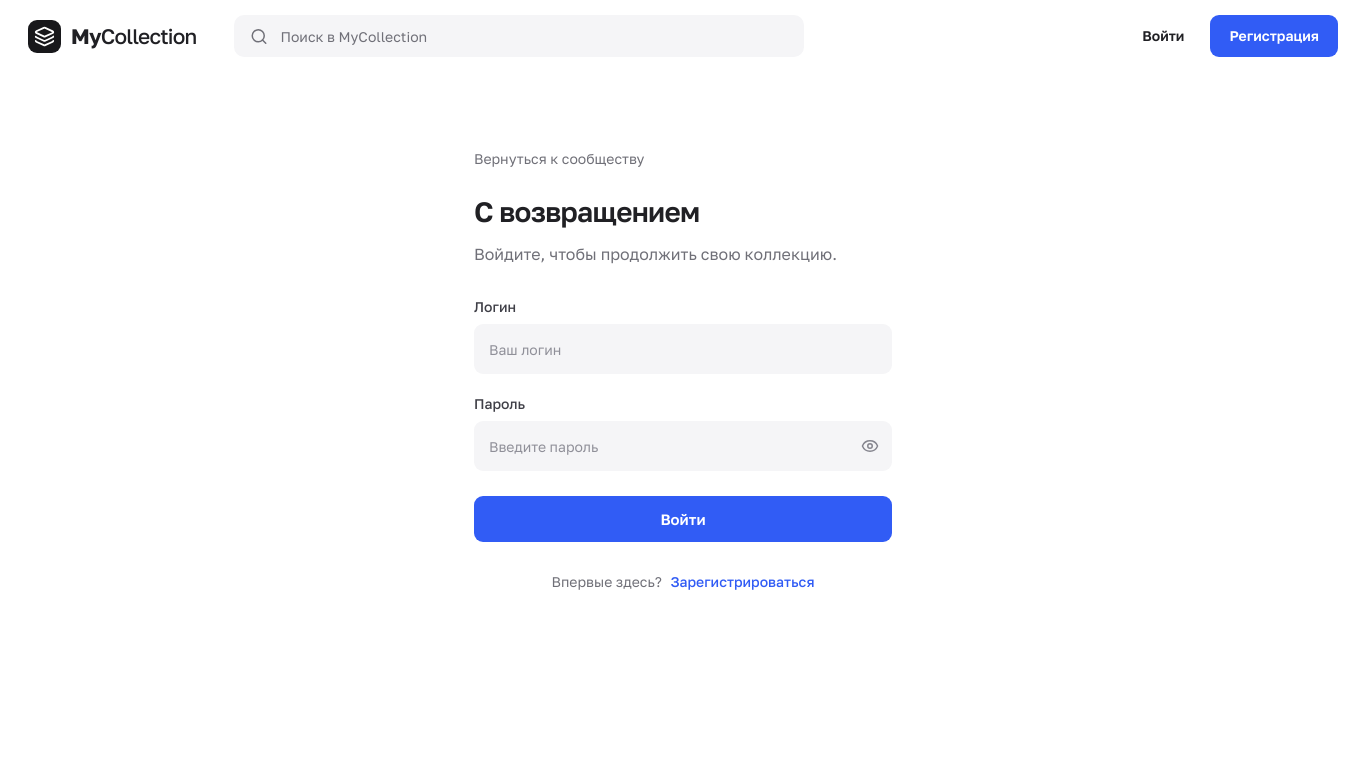
MyCollection account flow › logs in using real endpoint contract, swaps header actions, loads profile and logs out
Type "collector" into the field labelled "Логин".
click(683, 349); type("collector")  # box [474,324,892,374]
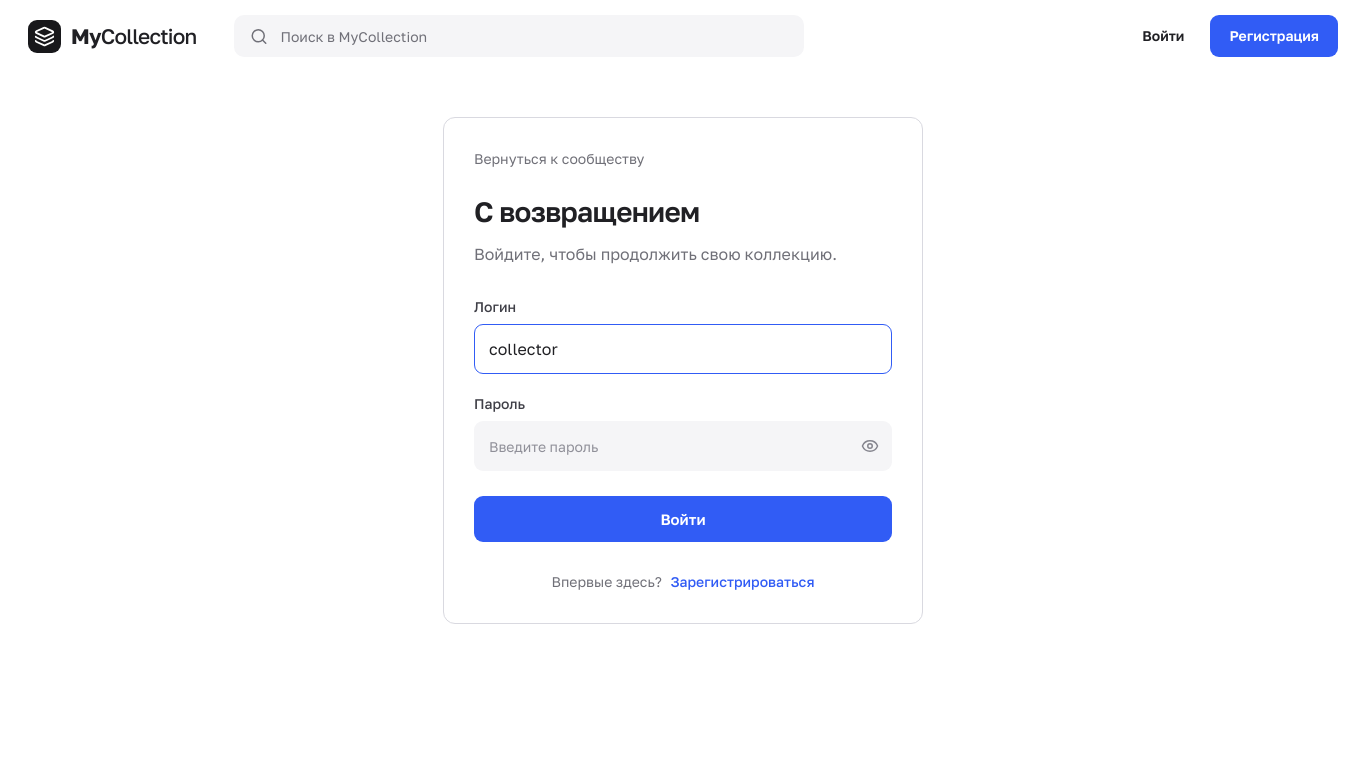
Type "password123" into the password field labelled "Пароль".
click(683, 446); type("password123")  # box [474,421,892,471]
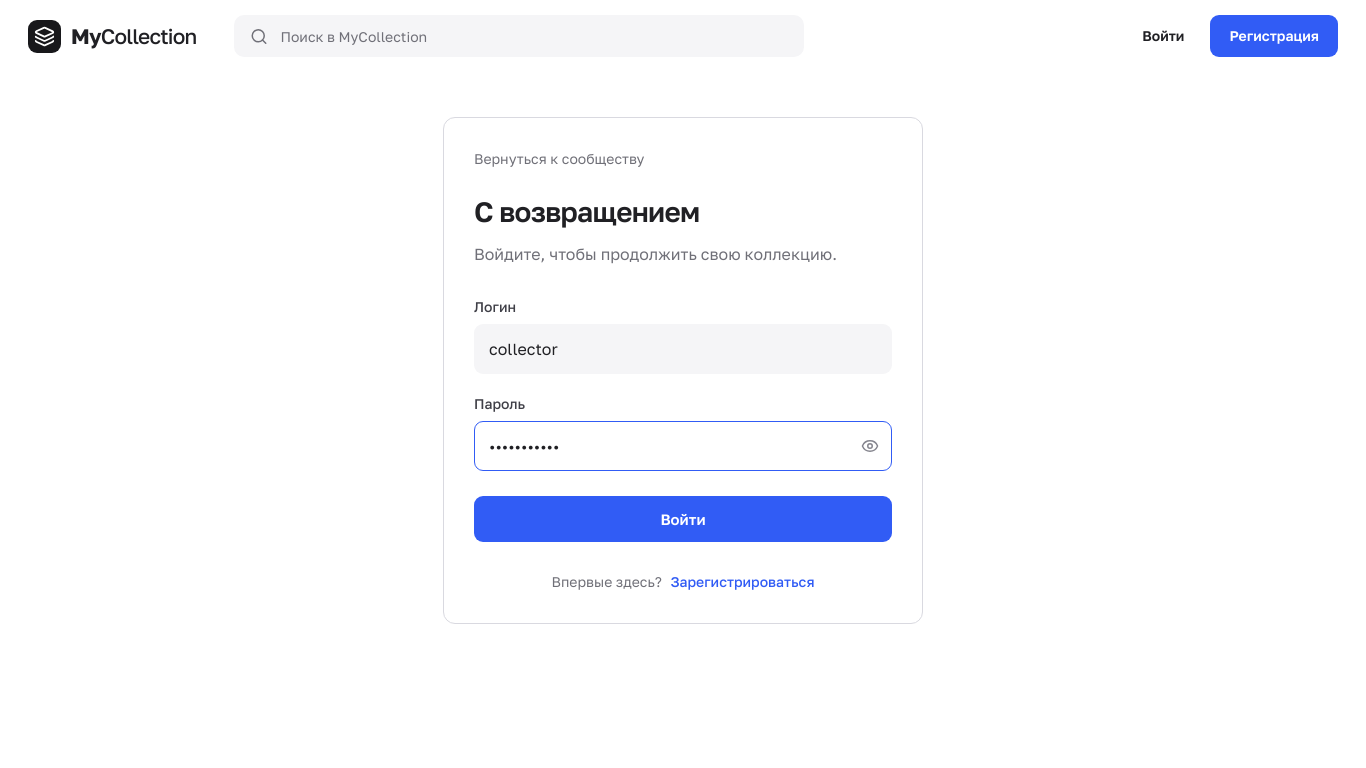
Click the button "Войти".
click(683, 519)  # box [474,496,892,542]
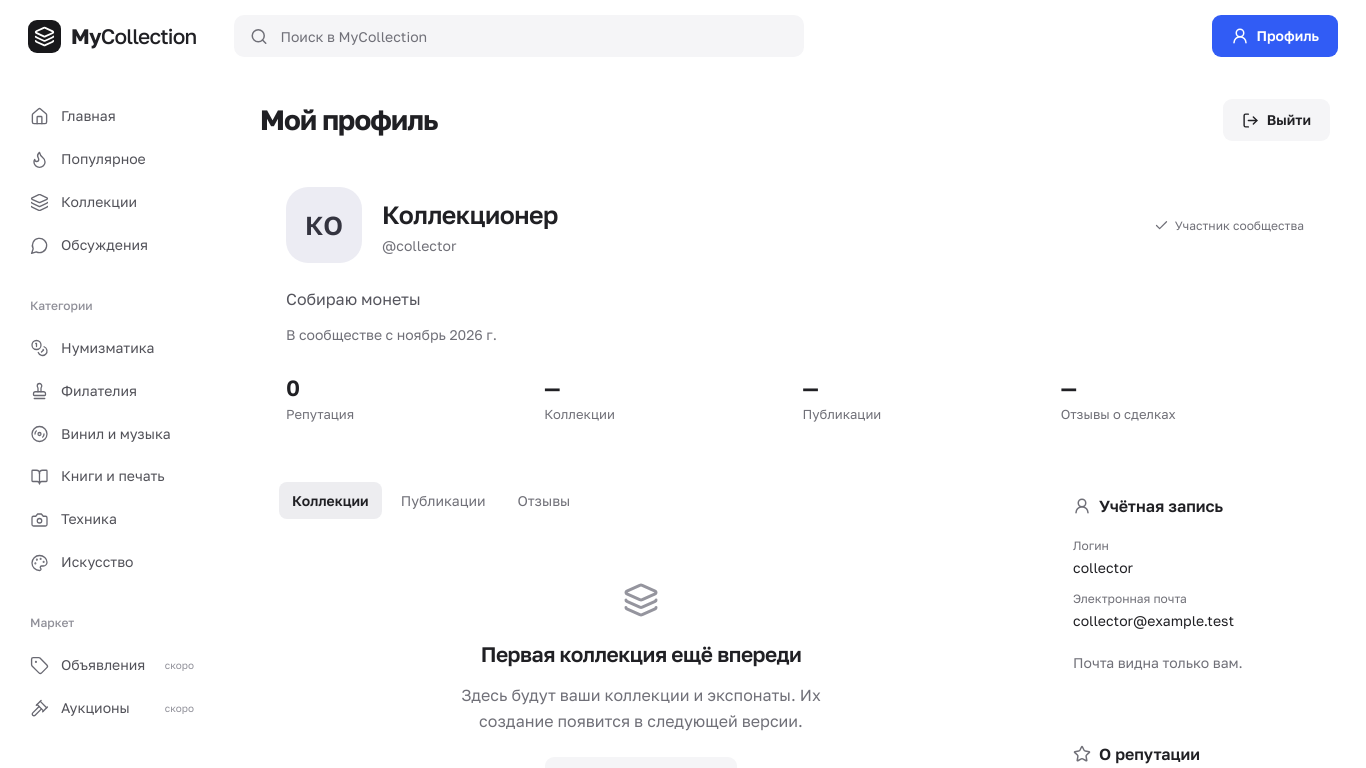
Expected: the heading "Мой профиль" is shown, [260,102,438,138]
Expected: the link "Профиль" is shown, [1212,15,1338,57]
Expected: the link "Регистрация" is gone
Click the button "Выйти".
click(1276, 120)  # box [1223,99,1330,141]
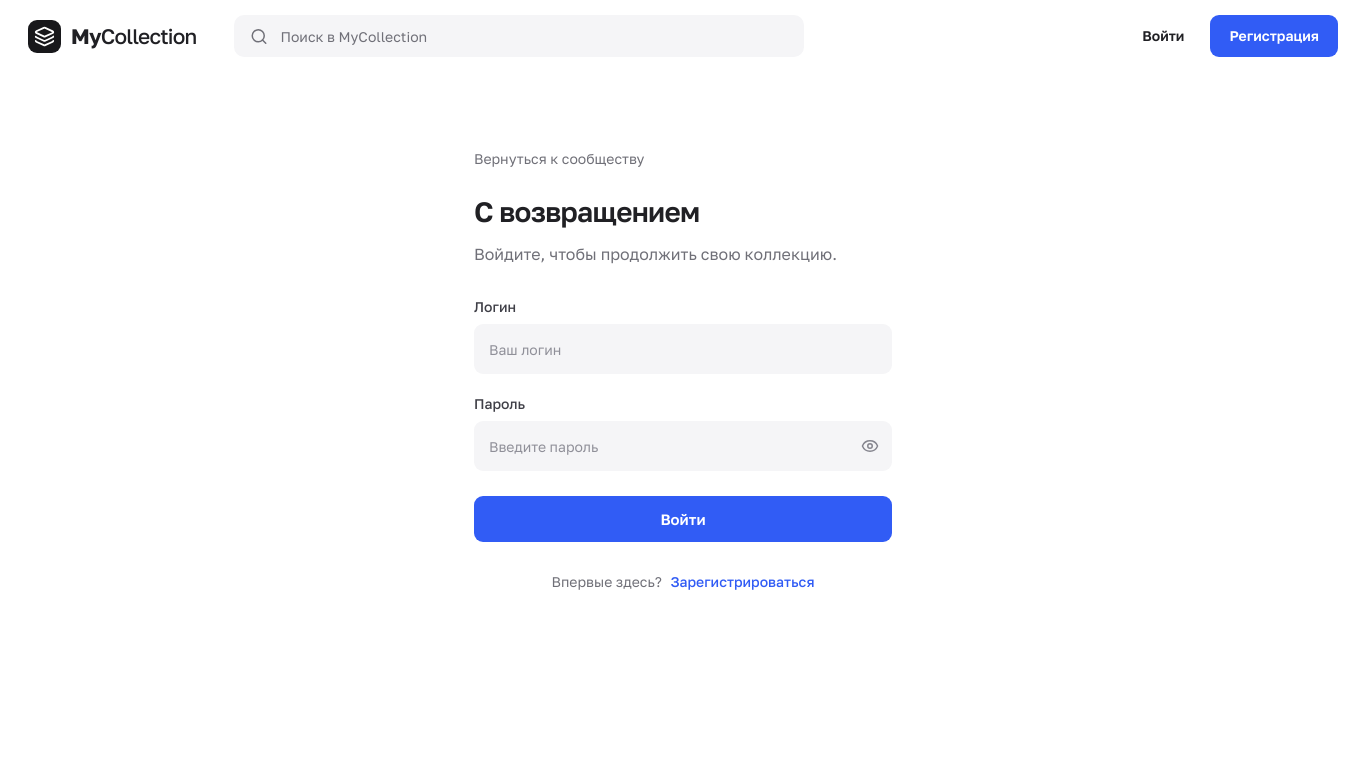
Expected: the link "Регистрация" is shown, [1210,15,1338,57]
